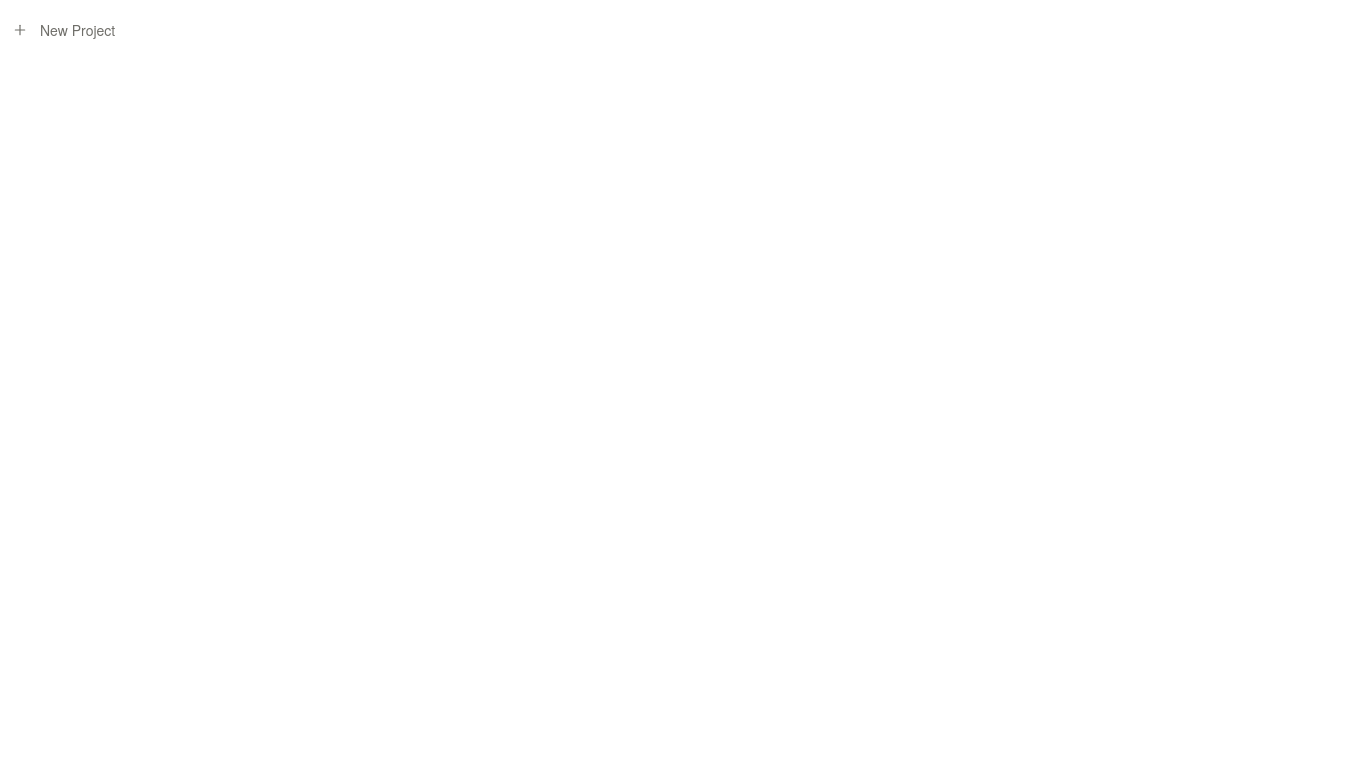
Test: CreateProjectDialog › keeps the override input empty until the user opts into an advanced path
This screenshot has width=1366, height=768.
Later steps or results of the test are not shown.
Click the button "New Project".
click(78, 30)  # box [0, 12, 1365, 48]
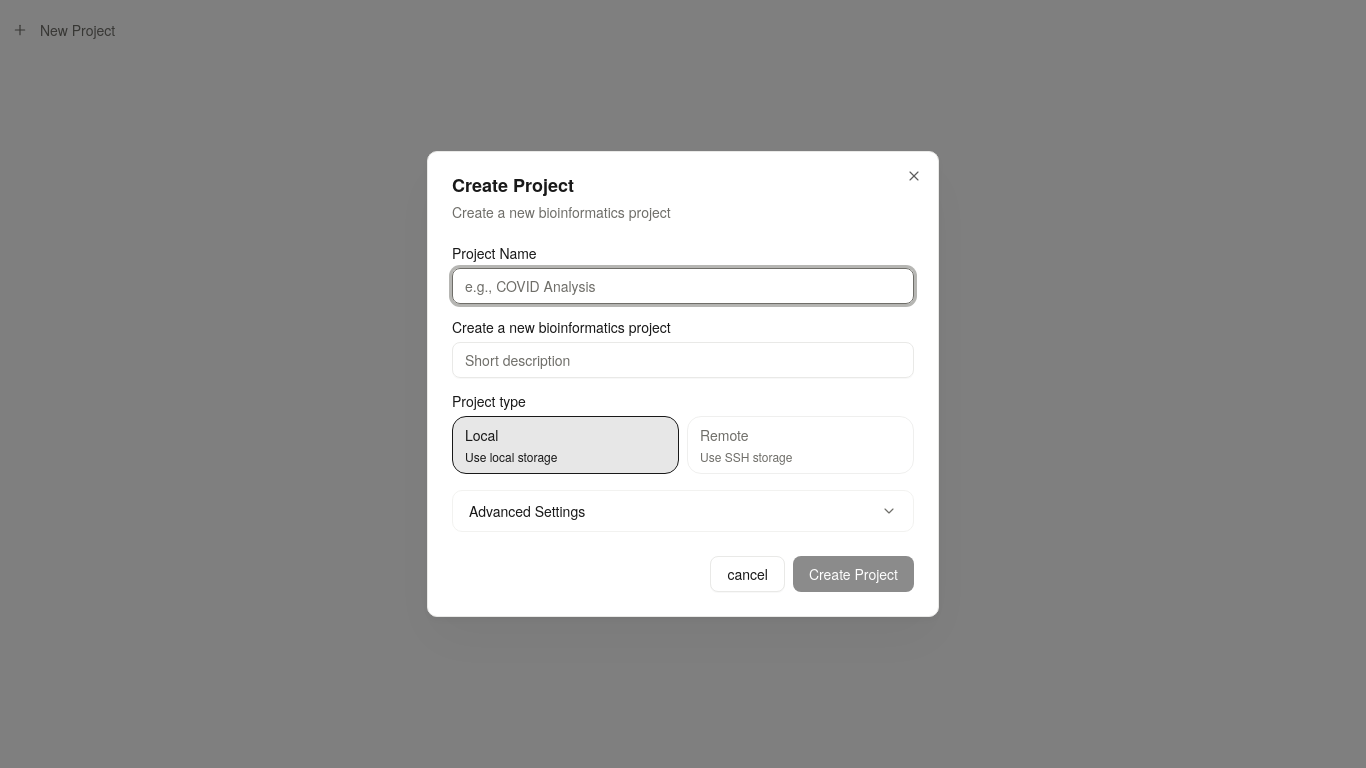
Type "Alpha" into the field labelled "Project Name".
click(683, 286); type("Alpha")  # box [452, 268, 914, 304]
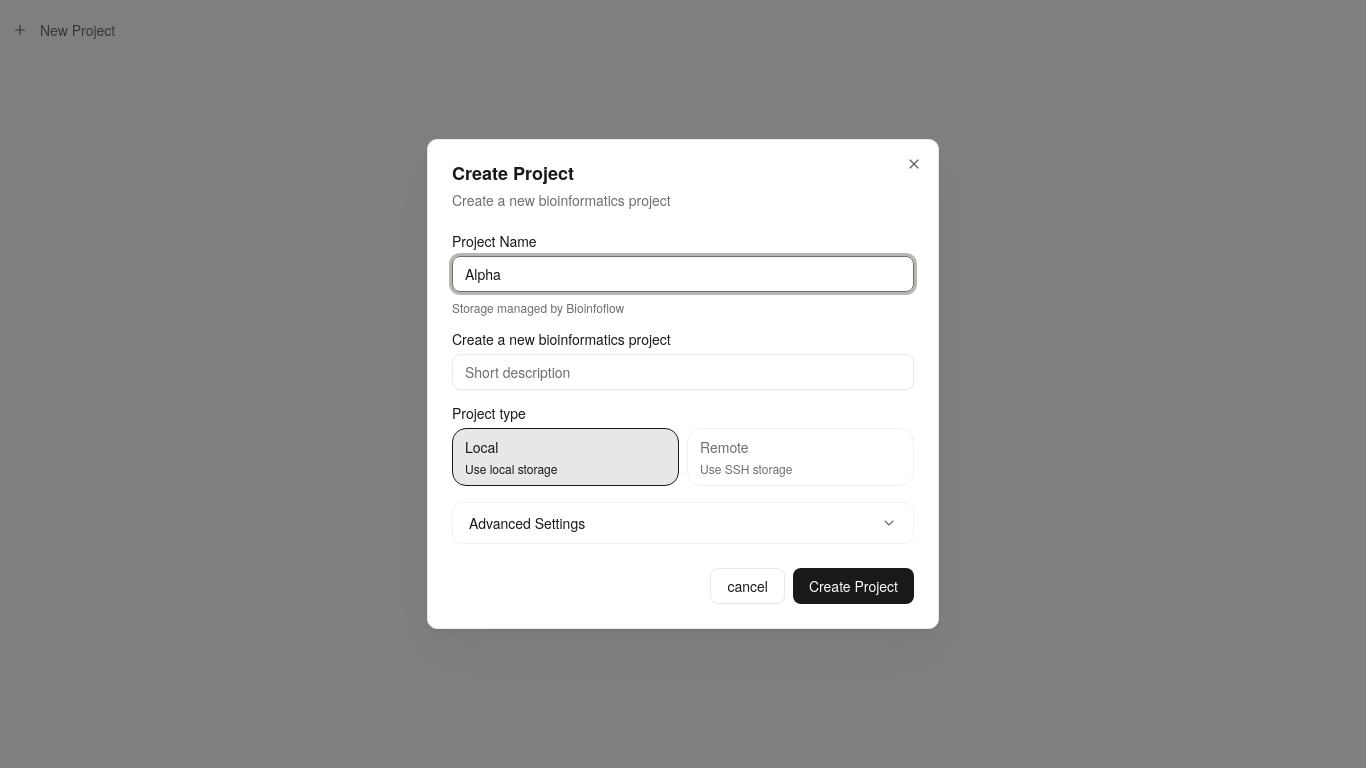
Note: Expand Advanced — override remains empty until the user provides one
Click the button "Advanced Settings".
click(527, 523)  # box [453, 503, 913, 543]
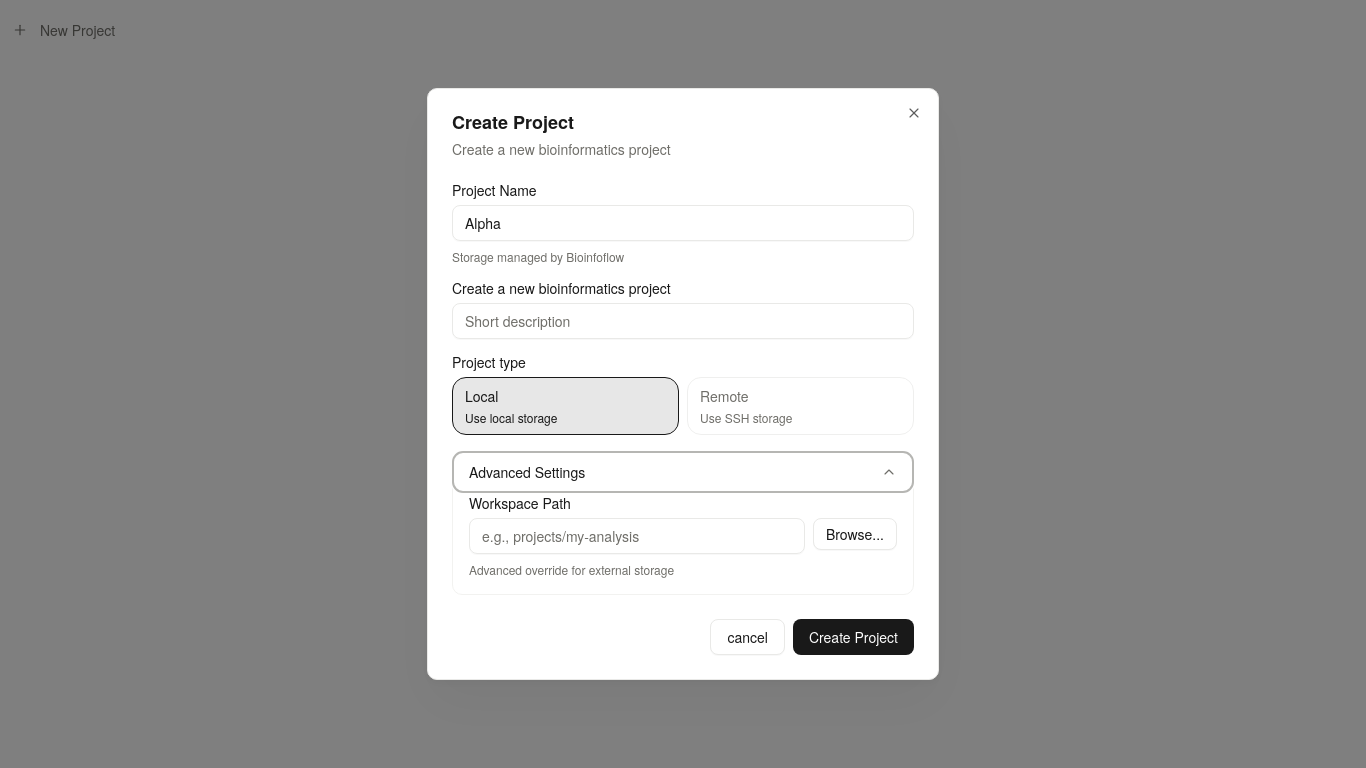
Check: the field labelled "Workspace Path" is empty, box [469, 518, 805, 554]
Note: Change the name — override stays untouched because managed storage is automatic
Clear the field labelled "Project Name" at (683,223), box [452, 205, 914, 241]
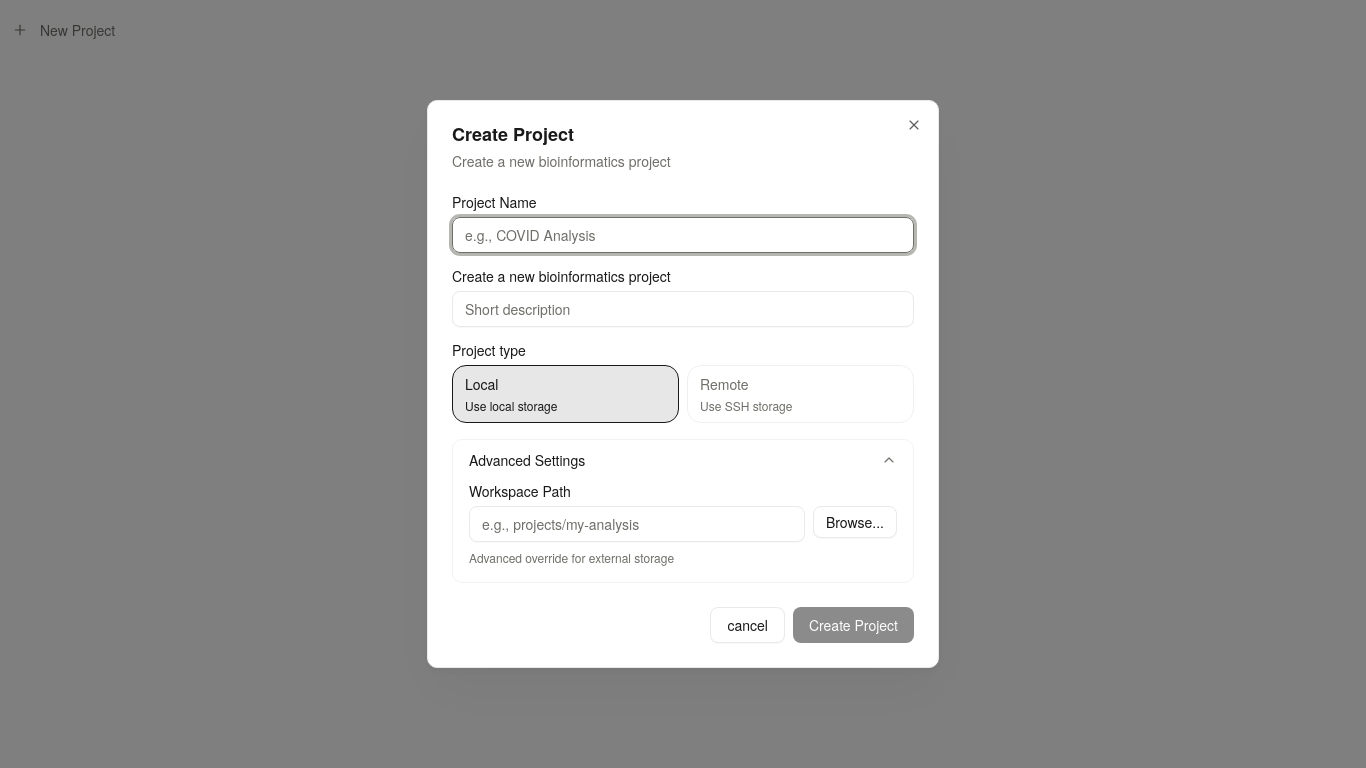
Type "Beta" into the field labelled "Project Name".
click(683, 235); type("Beta")  # box [452, 217, 914, 253]
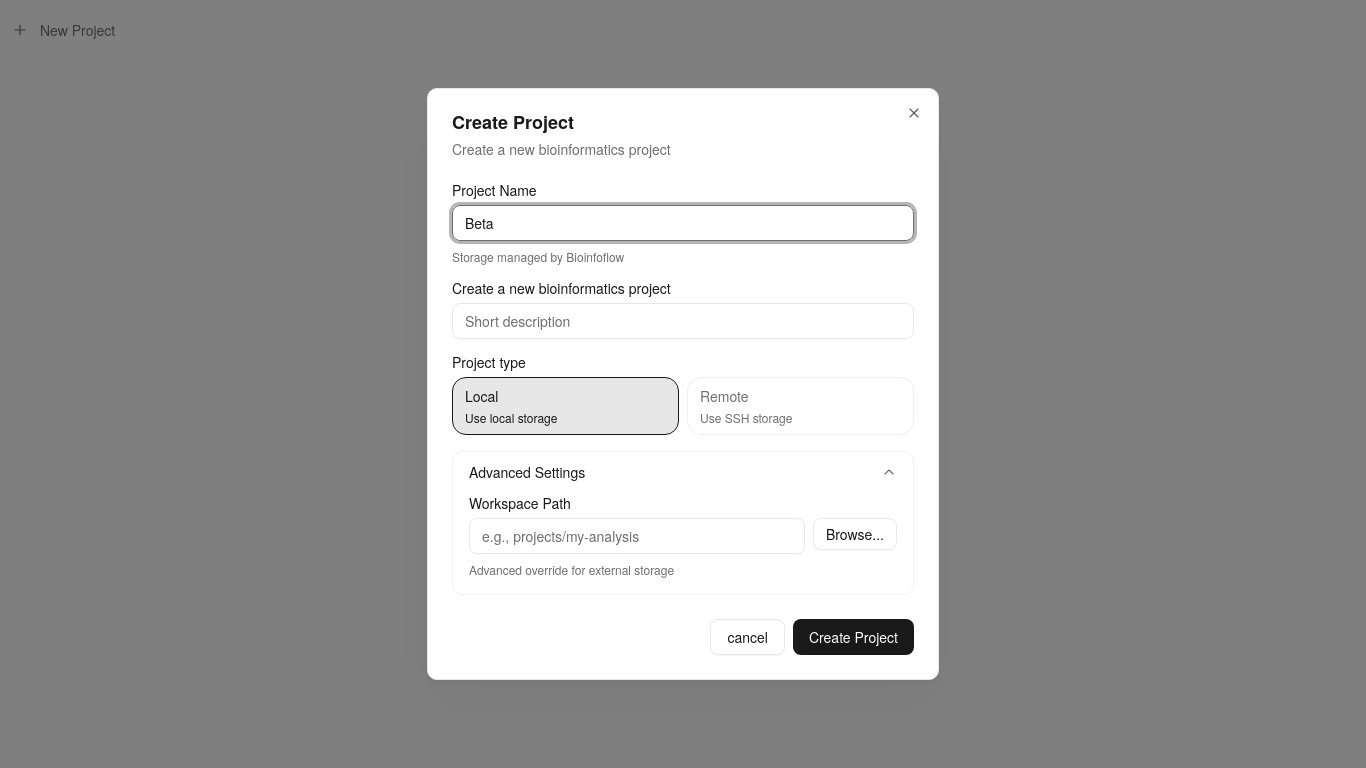
Check: the field labelled "Workspace Path" is empty, box [469, 518, 805, 554]
